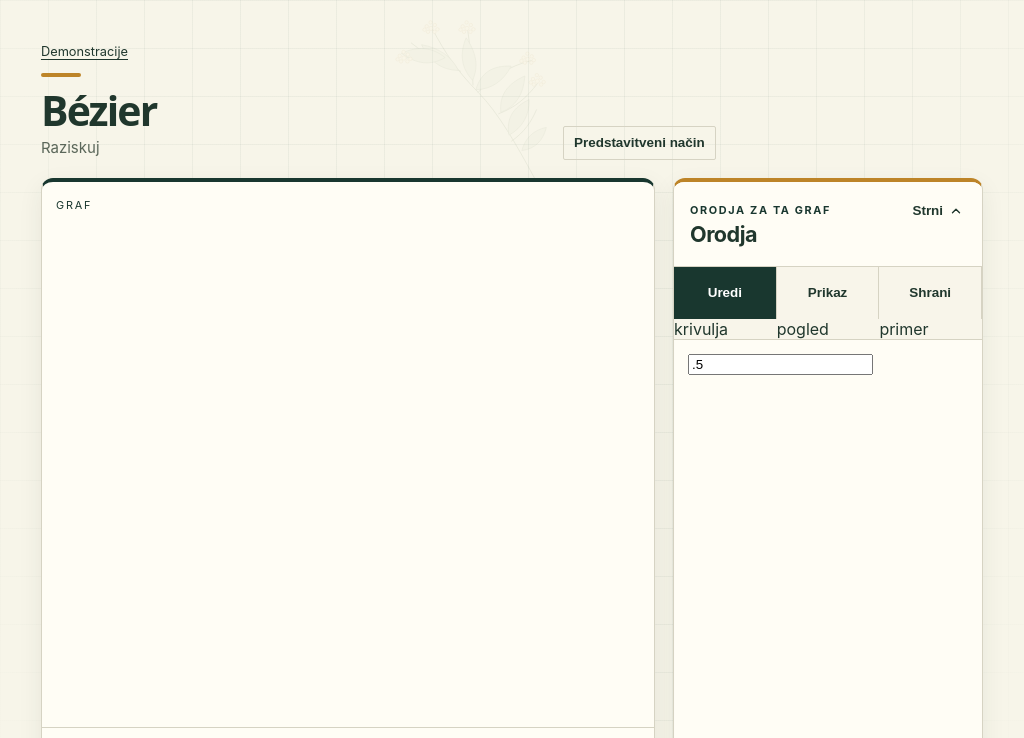
switching tabs resets the inspector content scroll owner and keeps hidden sections mounted
The width and height of the screenshot is (1024, 738).
(page scrolled)
What coordinates should you click on to do the following:
click the button "Prikaz"
I would click on:
 (828, 293)
Its box is top-left (777, 267), bottom-right (879, 319).
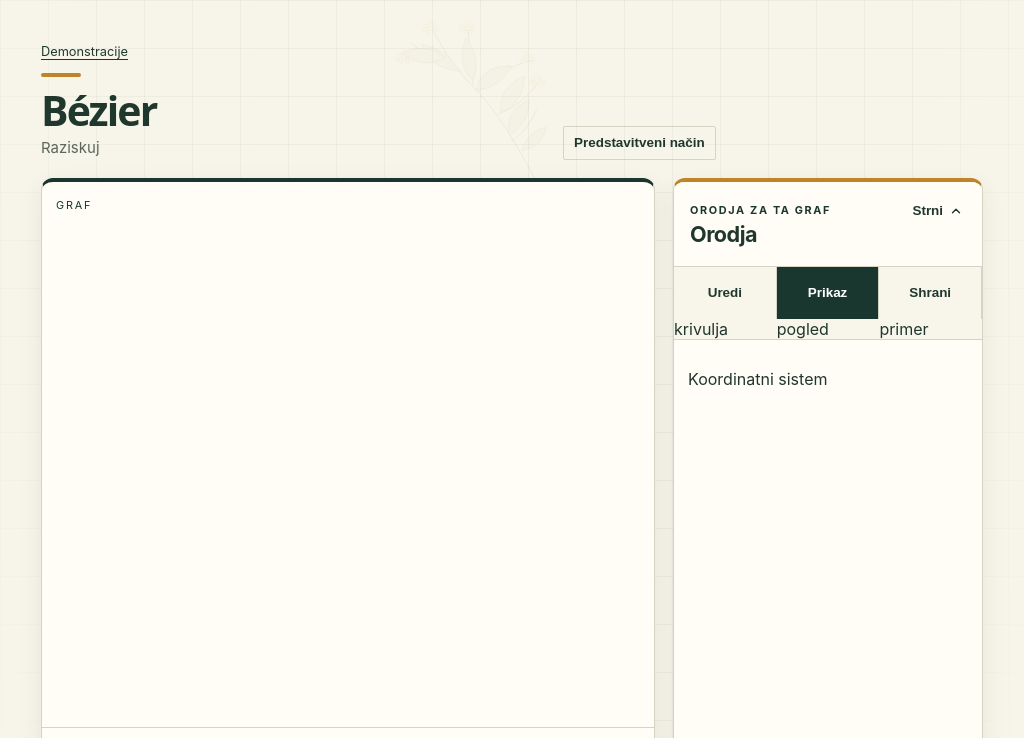
What coordinates should you click on to do the following:
click the button "Strni"
I would click on:
 (938, 211)
Its box is top-left (903, 194), bottom-right (972, 228).
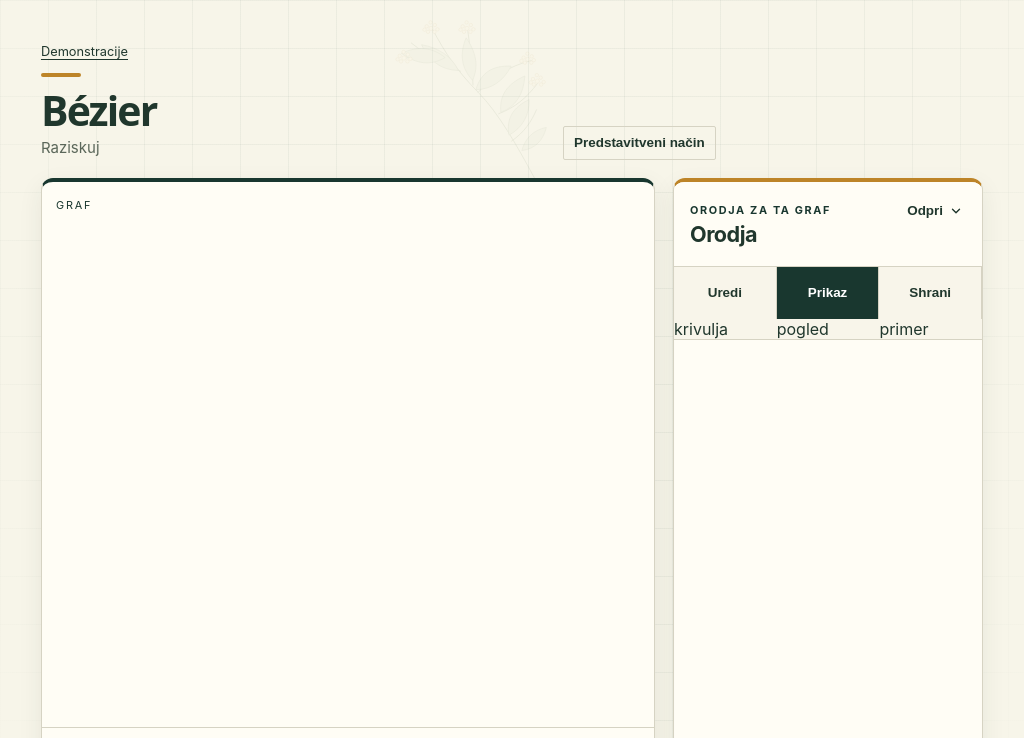
Now the button "Odpri" is collapsed, box top-left (898, 194), bottom-right (972, 228)
